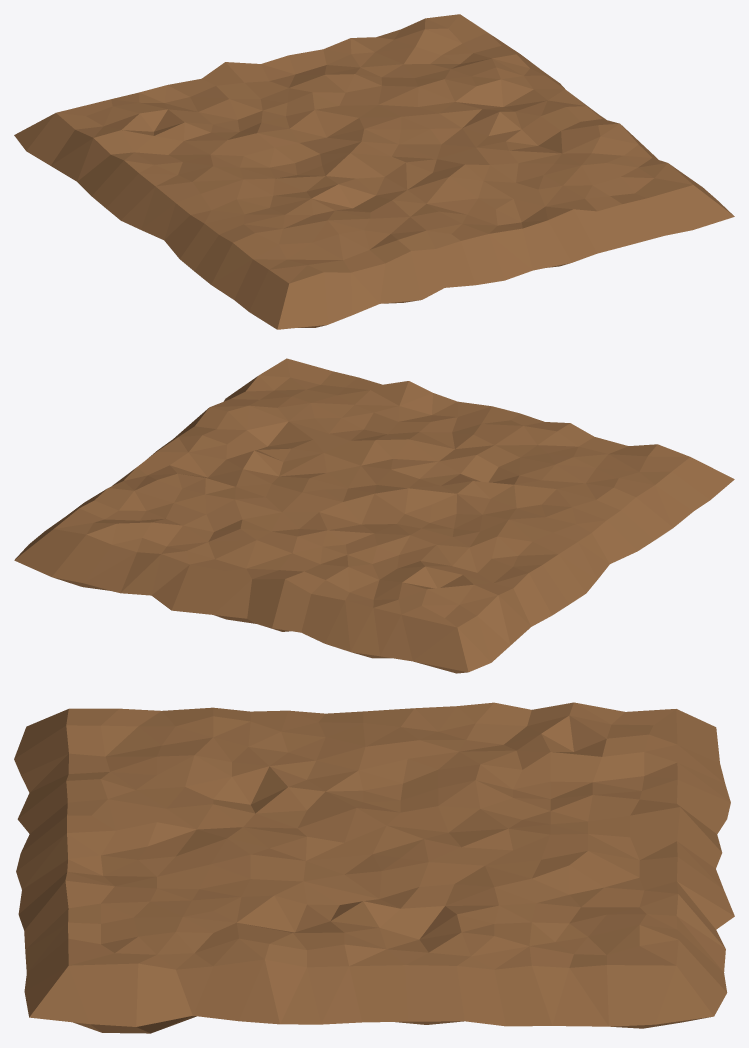
Rendered from Rice_Field.fbx.
3 renders of one model, top to bottom at view 1: azimuth 30°, elevation 25°; view 2: azimuth 150°, elevation 25°; view 3: azimuth 270°, elevation 25°, orthographic. The views are drawn at different scales.
Visible parts, largest first — view 1: Plane; view 2: Plane; view 3: Plane.
Part boxes in pixels (left/top/right/bottom): Plane: left=14, top=14, right=734, bottom=329; Plane: left=14, top=358, right=734, bottom=673; Plane: left=14, top=702, right=734, bottom=1033.
Size of the model in its own units: 615 by 77.87 by 625.
